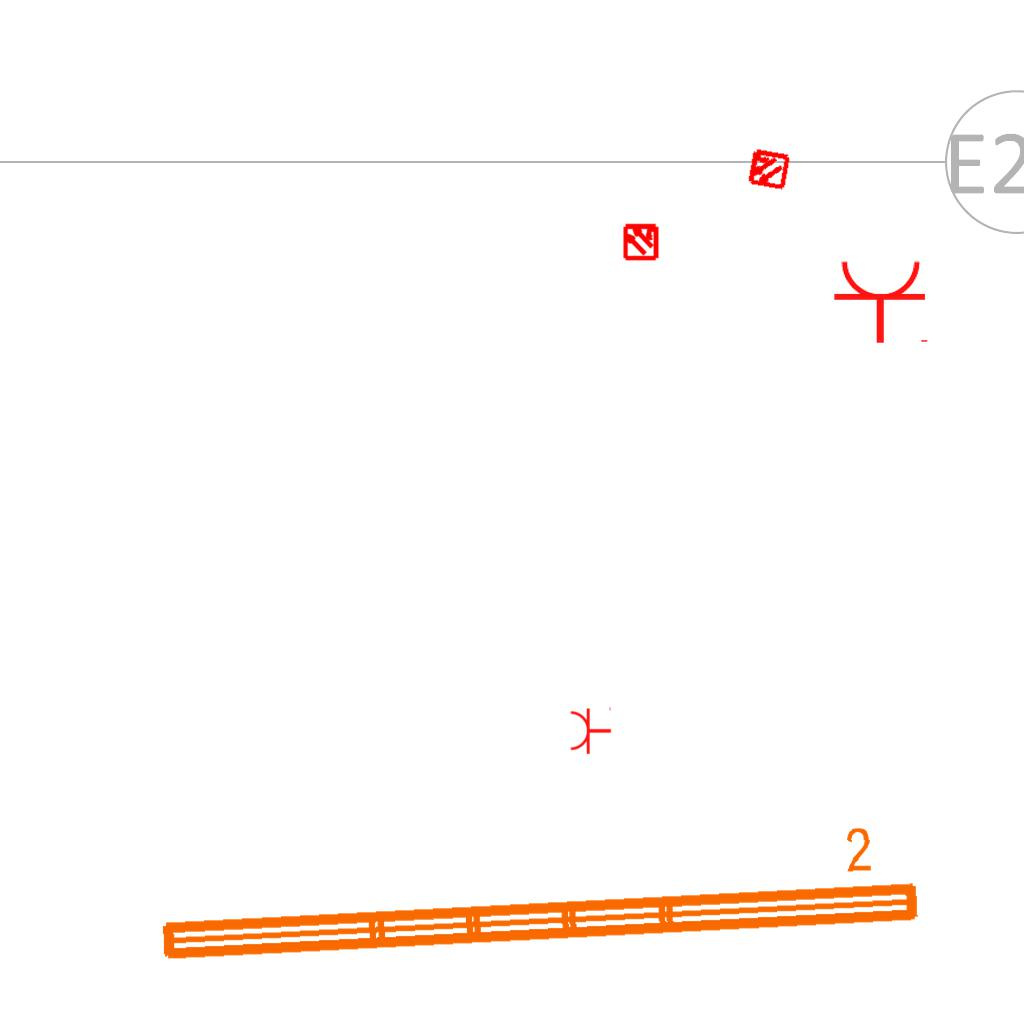Ambulanz_Pendelleuchte_LED: (148, 819, 928, 973)
OT_Multisensormelder_(Kombination_RMO_WMD): (735, 136, 801, 202), (613, 213, 669, 269)
Schukosteckdose_einfach: (832, 258, 932, 345), (569, 705, 612, 755)
